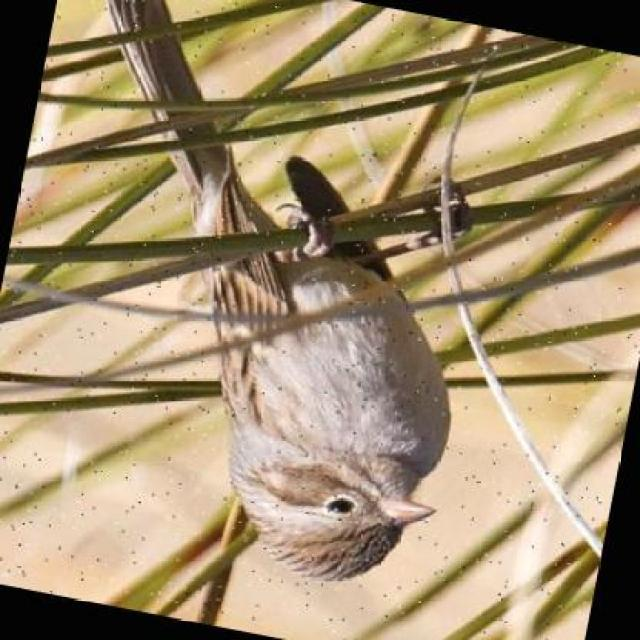Bird: (105, 0, 457, 567)
